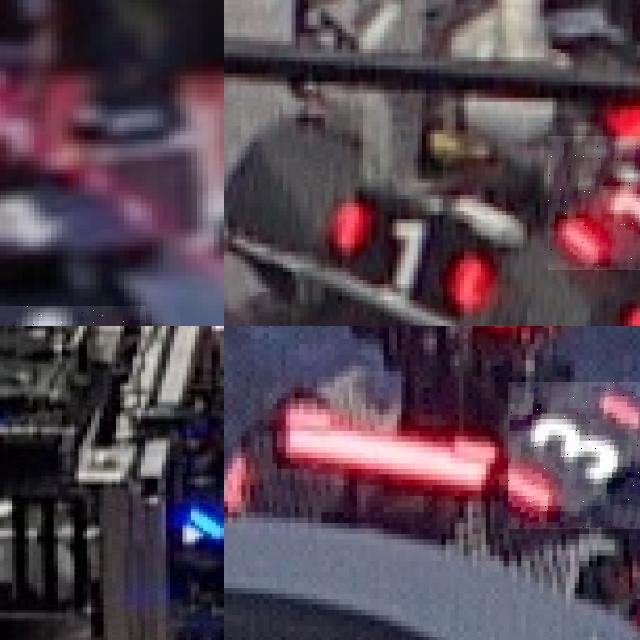R1: (314, 186, 499, 326), (548, 136, 640, 269)
R3: (508, 382, 640, 528)
